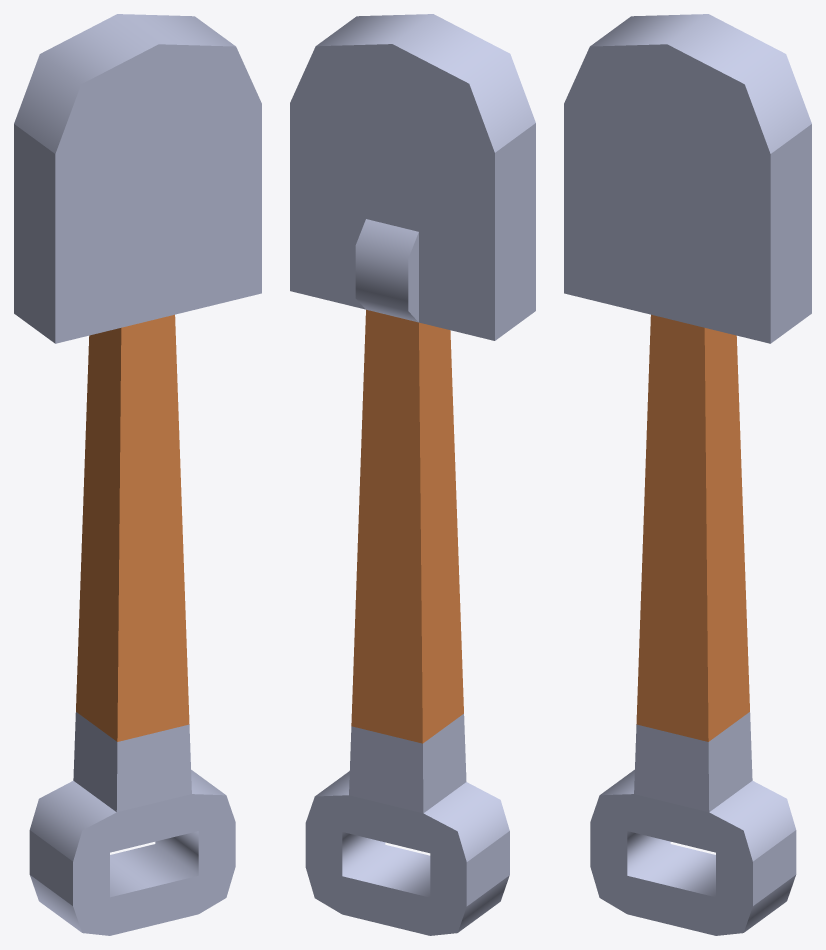
The model's file is toolShovel.obj.
The picture shows the model from 3 angles, left to right: view 1: azimuth 30°, elevation 25°; view 2: azimuth 150°, elevation 25°; view 3: azimuth 330°, elevation 25°; orthographic projection.
Visible parts, largest first — view 1: toolShovel; view 2: toolShovel; view 3: toolShovel.
Boxes of the visible parts, x1,y1,x2,y2 form: toolShovel: [14, 14, 261, 935]; toolShovel: [290, 14, 535, 935]; toolShovel: [564, 14, 811, 935].
Bounding box in the file's own units: 0.0709 × 0.29 × 0.0309.
